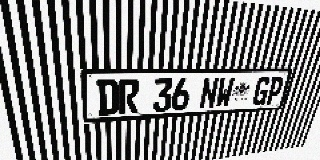3: (153, 78, 173, 112)
6: (171, 78, 191, 111)
D: (96, 79, 118, 116)
G: (251, 77, 272, 106)
N: (199, 77, 219, 109)
P: (265, 76, 285, 105)
R: (119, 79, 139, 114)
W: (215, 77, 235, 108)
